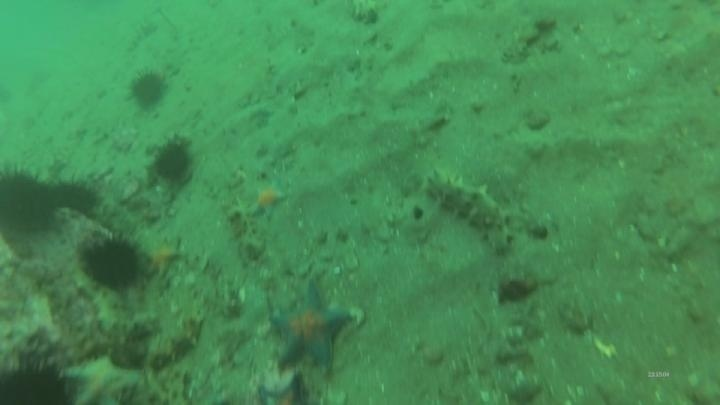echinus: (1, 163, 61, 239), (78, 232, 146, 295), (1, 349, 77, 404), (47, 177, 102, 221), (151, 137, 195, 186), (127, 69, 170, 112)
holothurian: (421, 169, 515, 254), (69, 266, 130, 337), (148, 299, 205, 367), (225, 196, 269, 263), (120, 17, 160, 57)
starfish: (268, 280, 355, 373), (61, 351, 145, 405), (254, 369, 315, 403), (140, 234, 185, 280), (245, 176, 289, 221)
